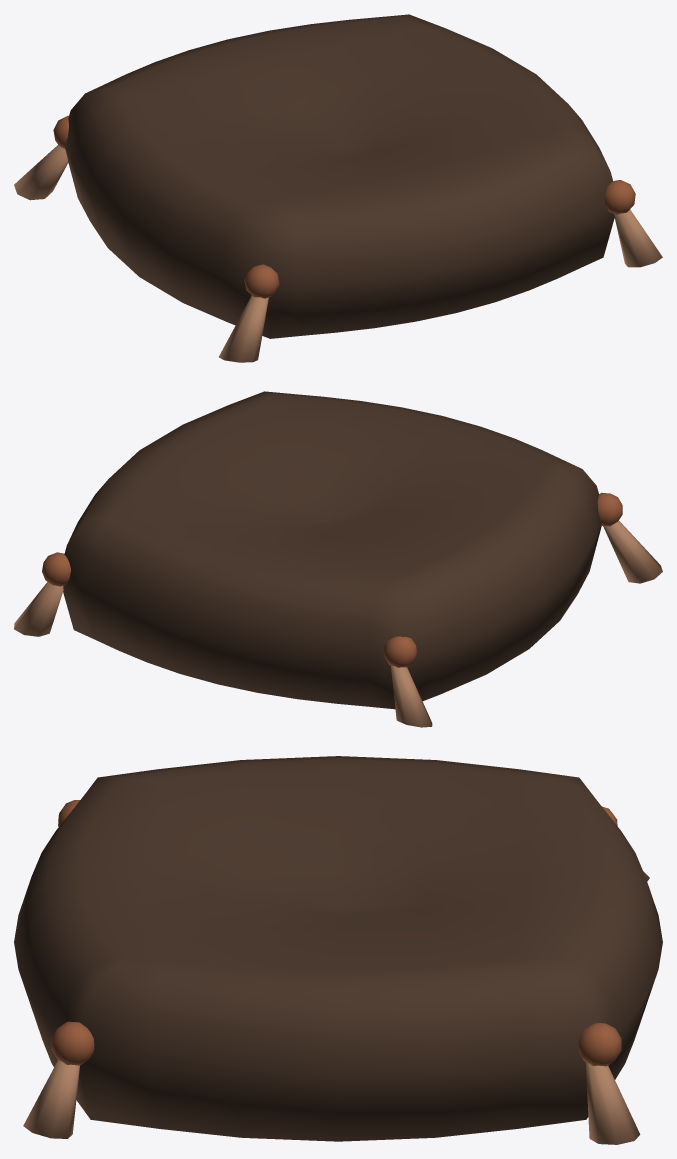
Rendered from fbx_pillow_02.fbx.
The picture shows the model from 3 angles, top to bottom: view 1: azimuth 30°, elevation 25°; view 2: azimuth 150°, elevation 25°; view 3: azimuth 270°, elevation 25°; orthographic projection. The views are drawn at different scales.
Visible parts, largest first — view 1: Cube.001; view 2: Cube.001; view 3: Cube.001.
Part boxes in pixels (x1=…): Cube.001: x1=14, y1=14, x2=662, y2=362; Cube.001: x1=14, y1=391, x2=662, y2=727; Cube.001: x1=14, y1=756, x2=662, y2=1144.
Size of the model in its own units: 2.9 by 0.7331 by 2.84.
